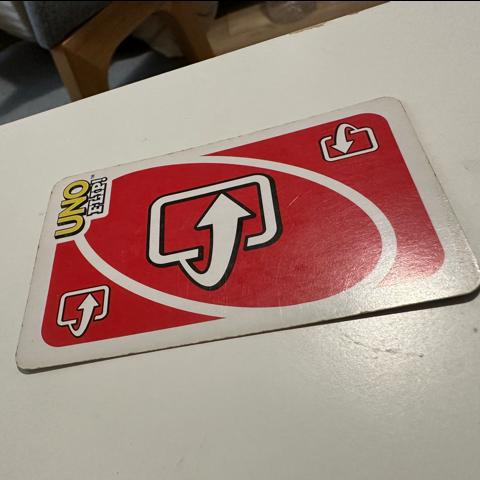lredflip-20: (40, 267, 128, 345)
